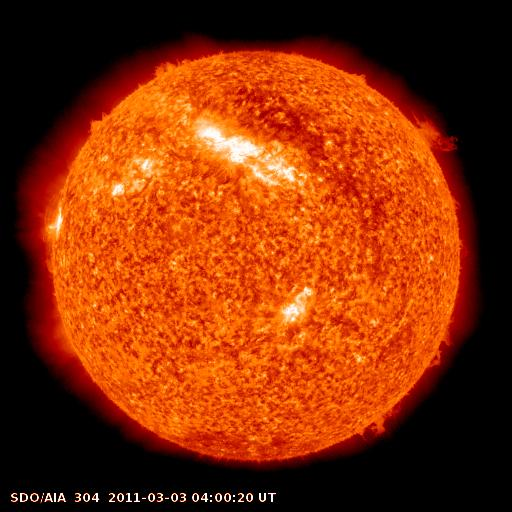prominence: (344, 387, 416, 446), (403, 99, 467, 165), (419, 313, 460, 384), (445, 188, 482, 265), (77, 102, 126, 151), (148, 46, 201, 89), (341, 62, 377, 92)
